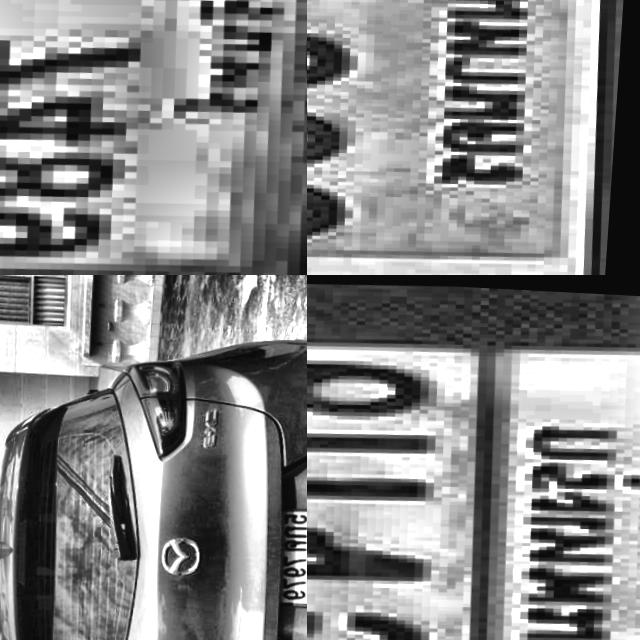license-plate: (307, 275, 640, 640), (307, 0, 640, 275), (0, 0, 307, 275), (262, 492, 307, 614)
